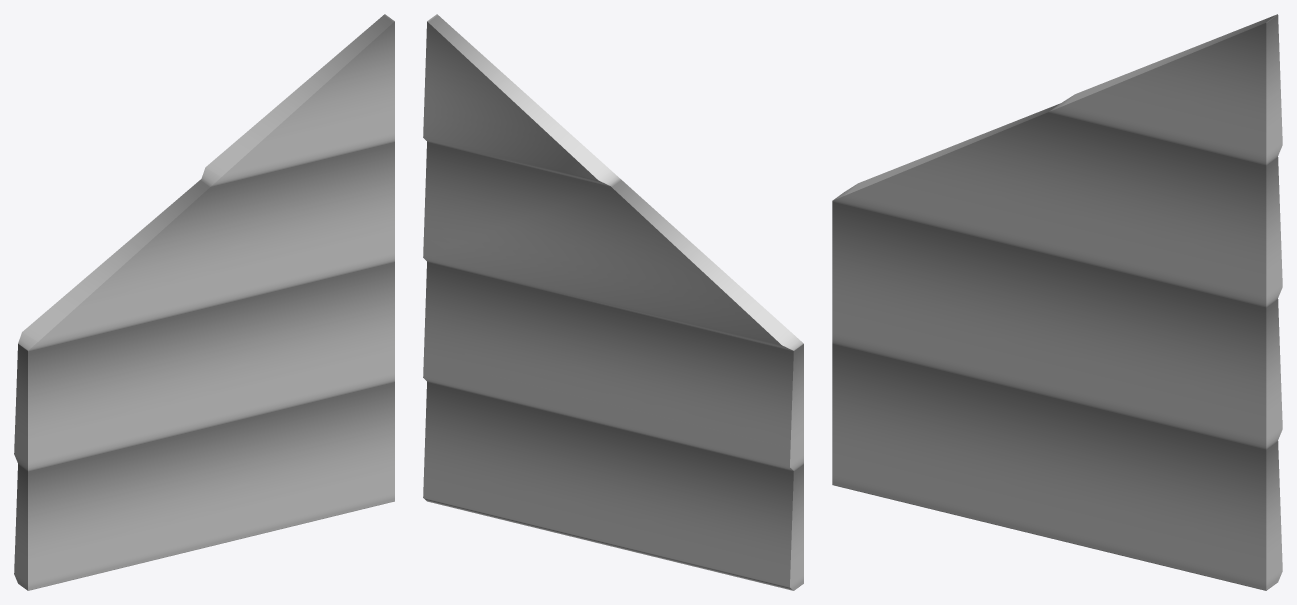
The model's file is Wall_Exterior_Angled_7.fbx.
3 views of the same model, side by side, from view 1: azimuth 30°, elevation 25°; view 2: azimuth 150°, elevation 25°; view 3: azimuth 330°, elevation 25° (orthographic). The views are drawn at different scales.
Visible parts, largest first — view 1: Wall_Exterior_Angled_7; view 2: Wall_Exterior_Angled_7; view 3: Wall_Exterior_Angled_7.
Boxes of the visible parts, <box> form: Wall_Exterior_Angled_7: <box>14,14,394,590</box>; Wall_Exterior_Angled_7: <box>423,14,803,590</box>; Wall_Exterior_Angled_7: <box>832,14,1282,590</box>.
Size of the model in its own units: 1 by 1.25 by 0.066.
